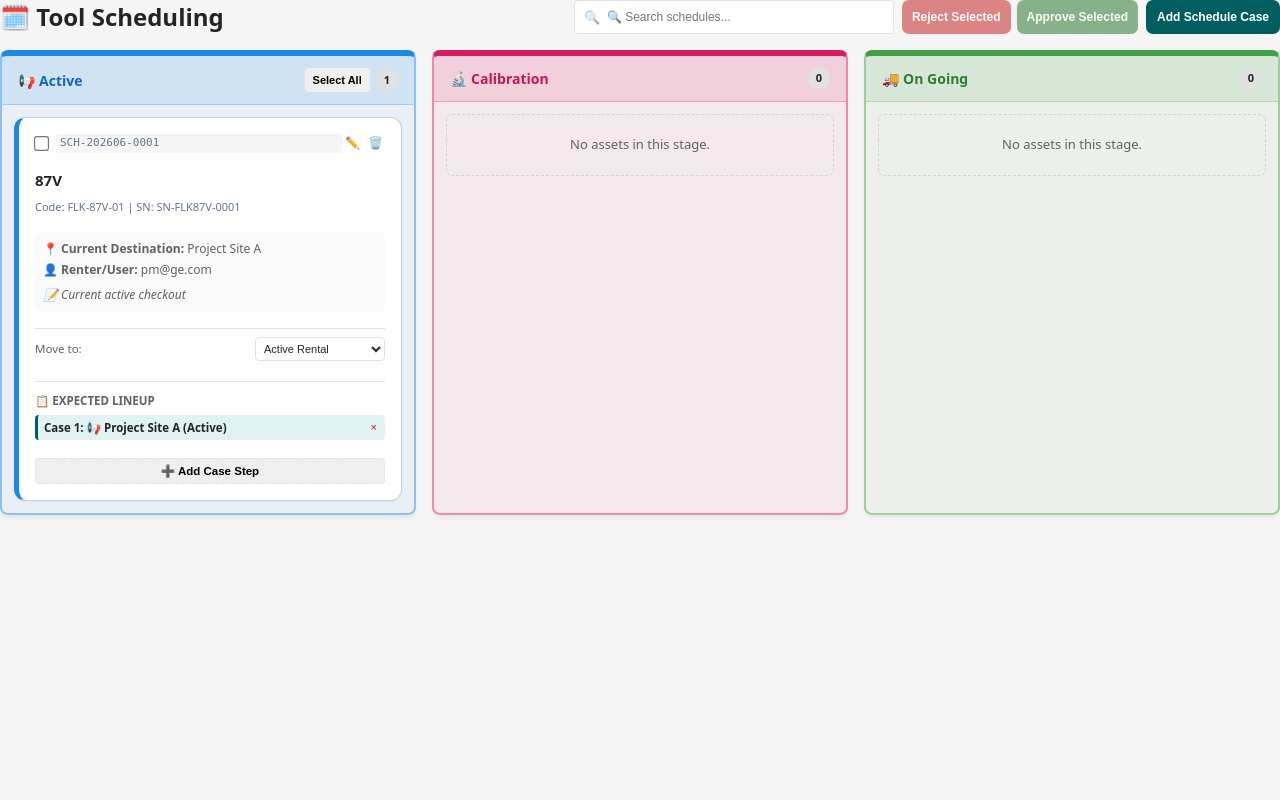
SchedulingTab Component › prefills create modal from dashboard project and removes notes instructions
Expected: the text "SCH-202606-0001" is shown, [56,134,343,152]
Click the button "Add Schedule Case".
click(1213, 17)  # box [1146,0,1279,34]
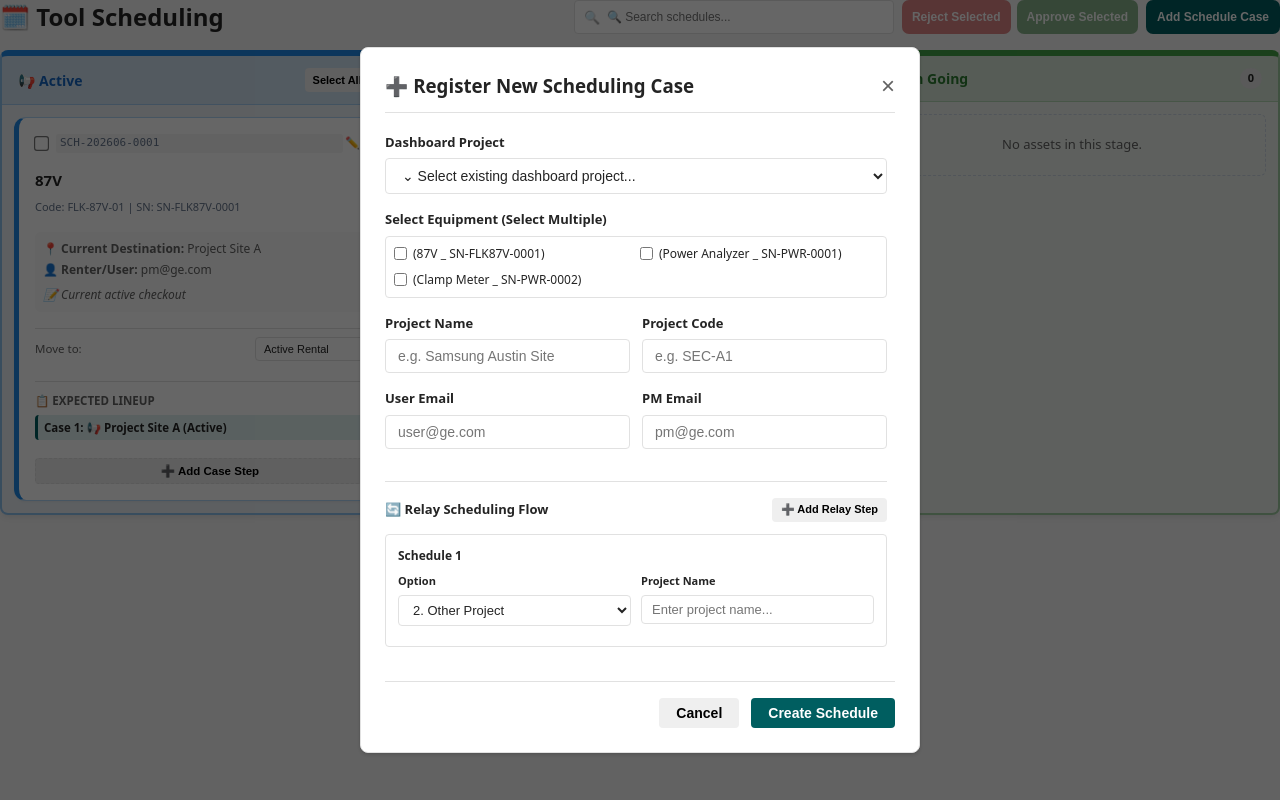
Select "Project Alpha · ALPHA-77 · TR-ALPHA-001" in the dropdown labelled "Dashboard Project" at (636, 176), box [385,158,887,194]
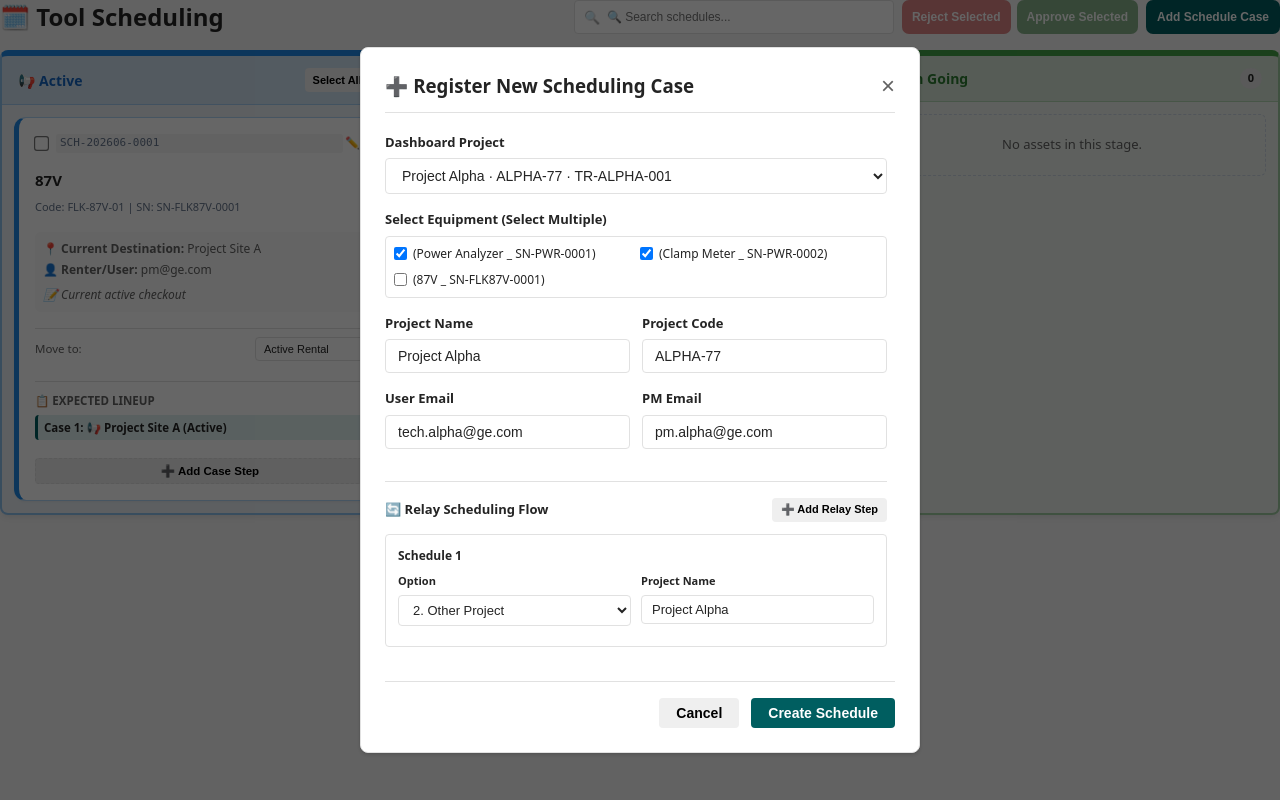
Expected: the 1st field showing "Project Alpha" is shown, [385,339,630,373]
Expected: the field showing "ALPHA-77" below "Project Code" is shown, [642,339,887,373]
Expected: the field showing "tech.alpha@ge.com" below "User Email" is shown, [385,415,630,449]
